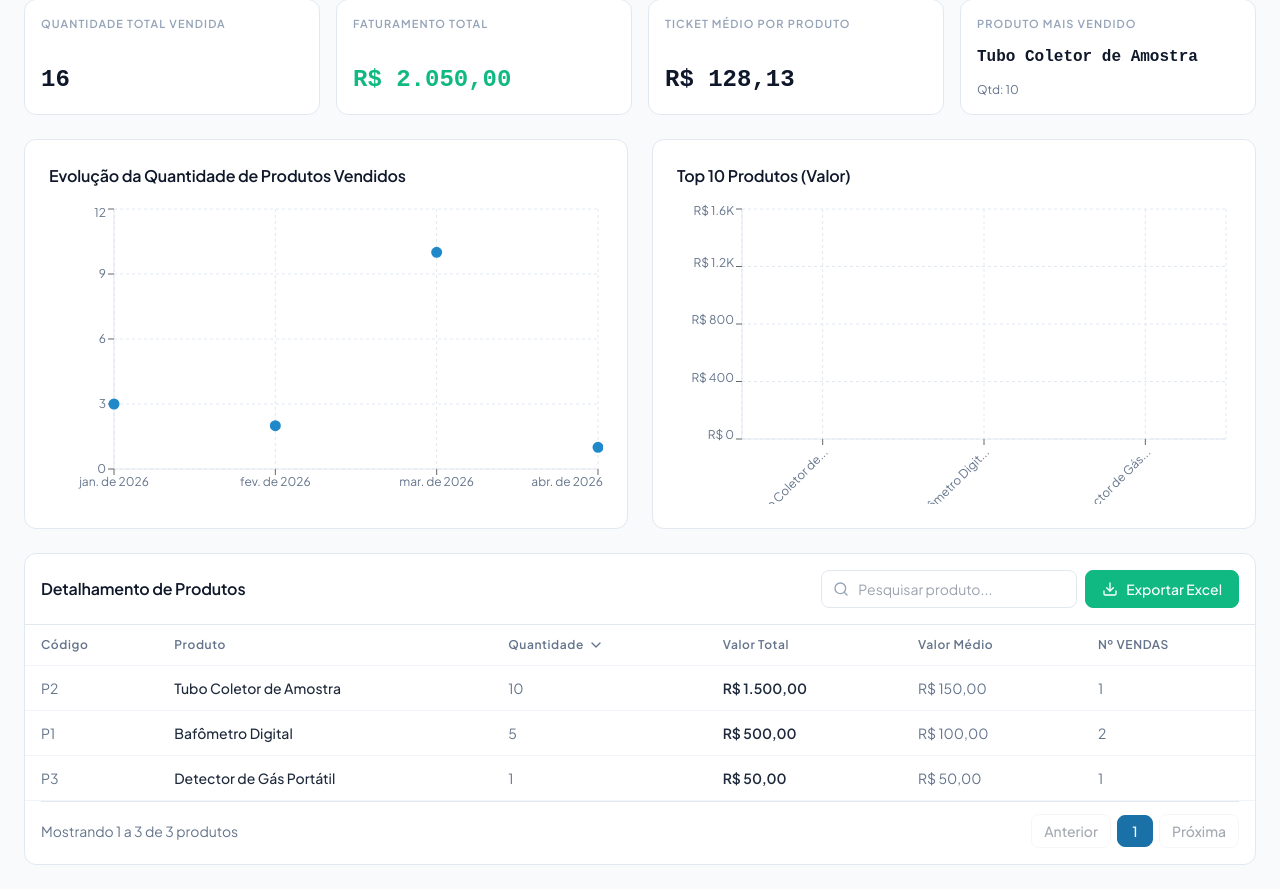
Test: tabela de Produtos › a pesquisa filtra pela descricao, reduzindo as linhas
(page scrolled)
Step 1. Type "Tubo" into the field with placeholder "Pesquisar produto..." → (949, 589), box [821,570,1077,608]
(page scrolled)
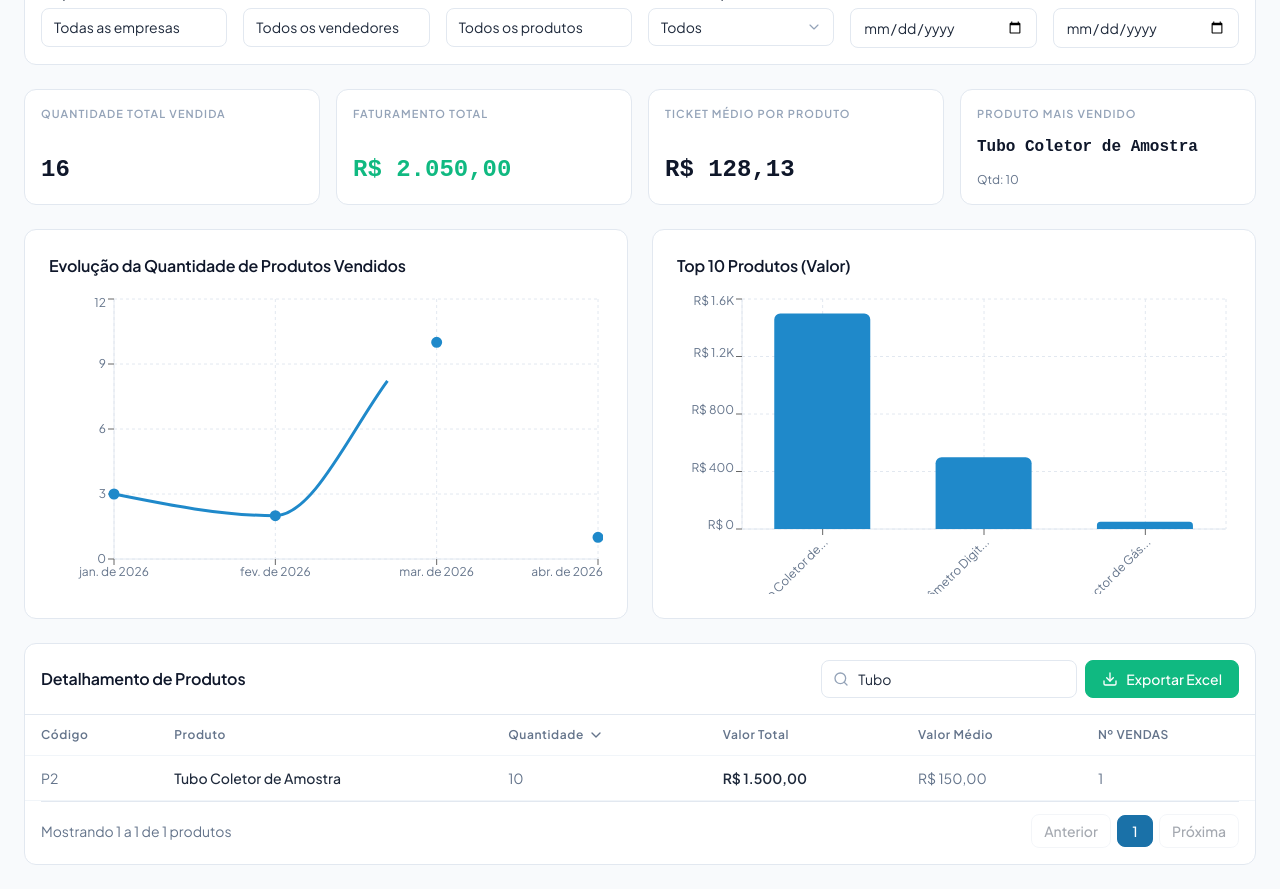
Expected: the text "Tubo Coletor de Amostra" next to "P2" is shown, [174,769,341,787]
Now the text "Bafômetro Digital" is gone
Now the text "Detector de Gás Portátil" is gone
